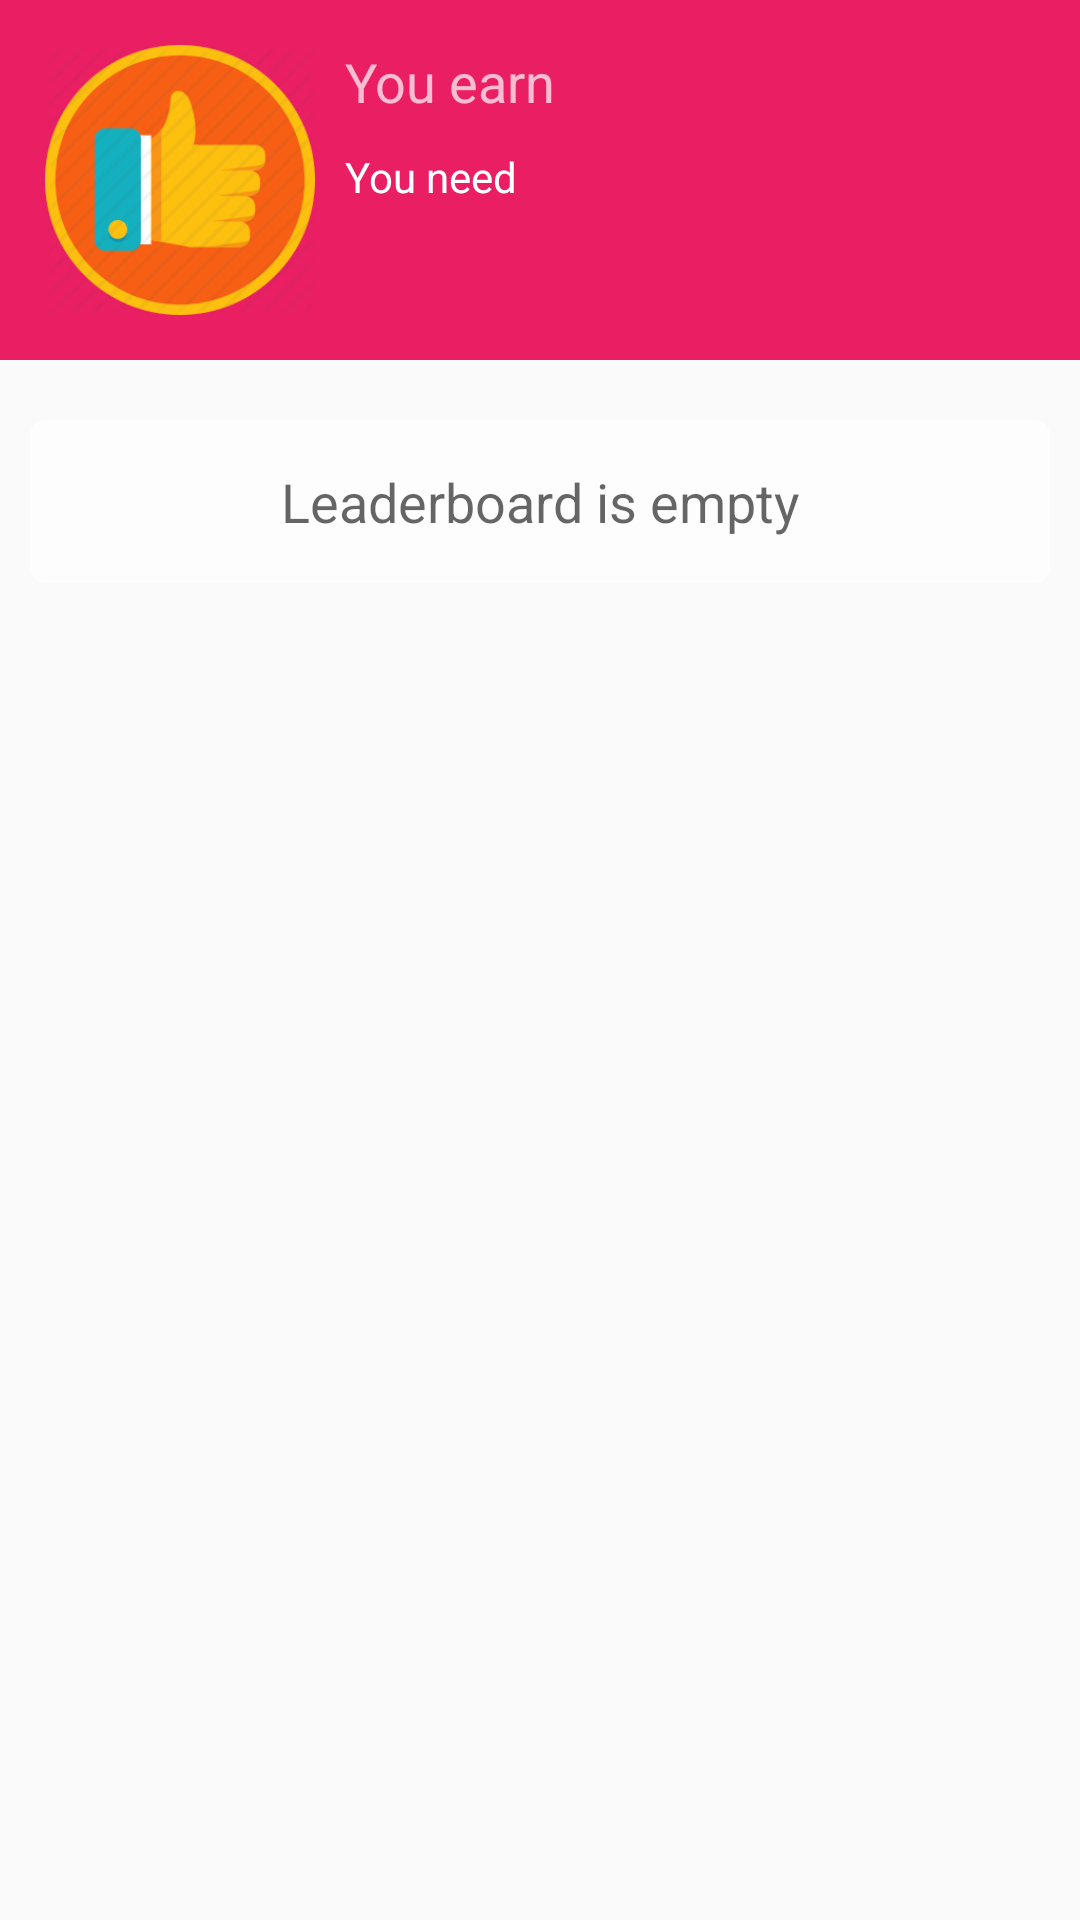

Icons on this 1080 x 1920 Android screen, each with the point to tap as [x,y]:
badge nobadge: [180,180]
